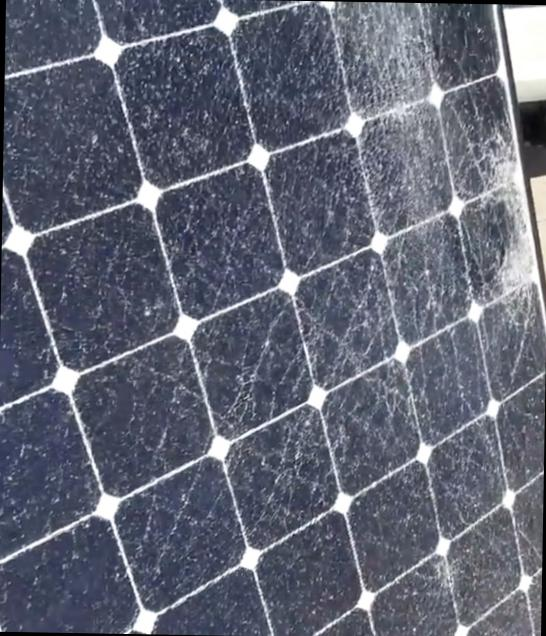Crack: (193, 104, 532, 466), (316, 3, 448, 113), (459, 206, 545, 355), (428, 104, 527, 210)
